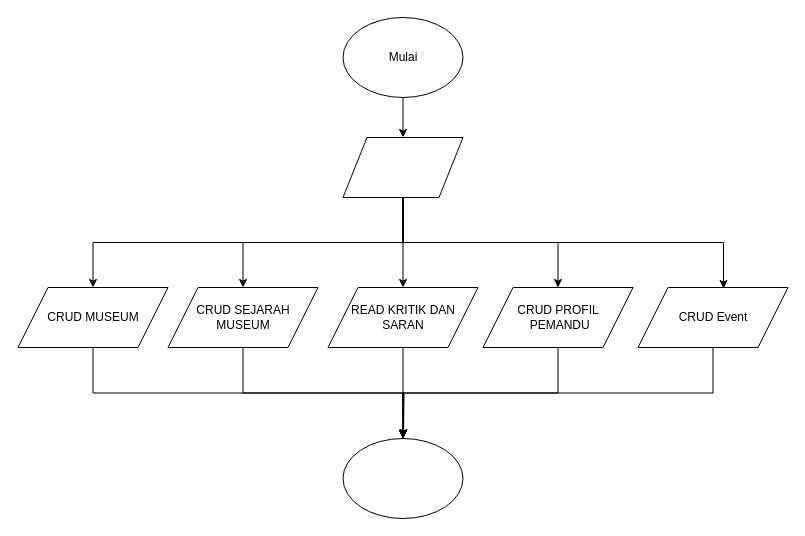
This 805x536 diagram has some shape labels left out. The shapes that lost their labels are listed below. From the top down, each one's box as (x1, y1, x2, y2) in pixels, then its label:
(342, 136, 463, 198): Login
(342, 438, 463, 518): Selesai
